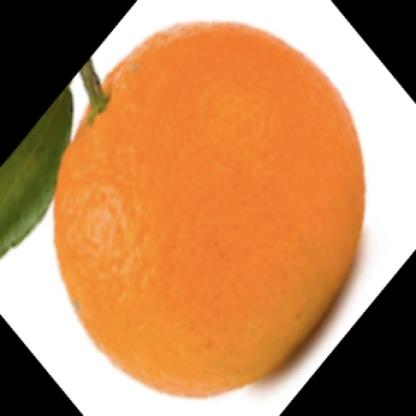fresh: (54, 21, 366, 398)
